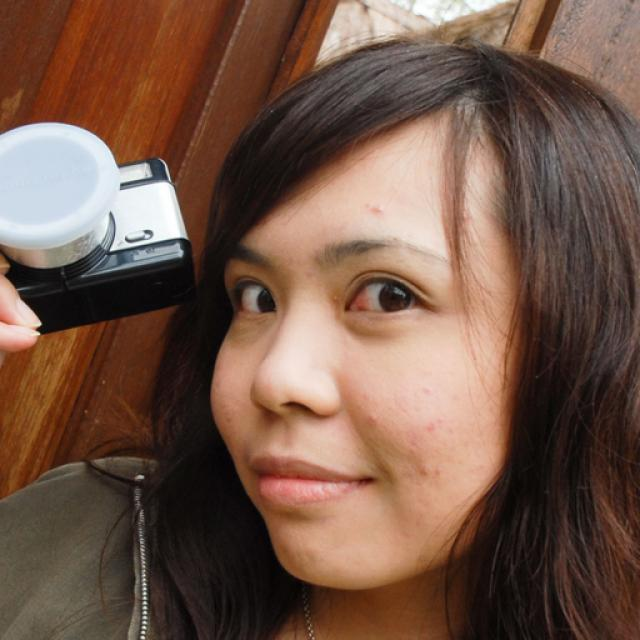Acne: (357, 194, 403, 224), (412, 412, 449, 438), (361, 408, 382, 442), (413, 456, 441, 481)
